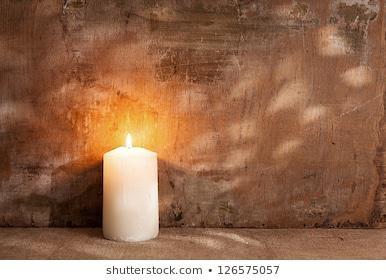fire: (121, 130, 136, 151)
